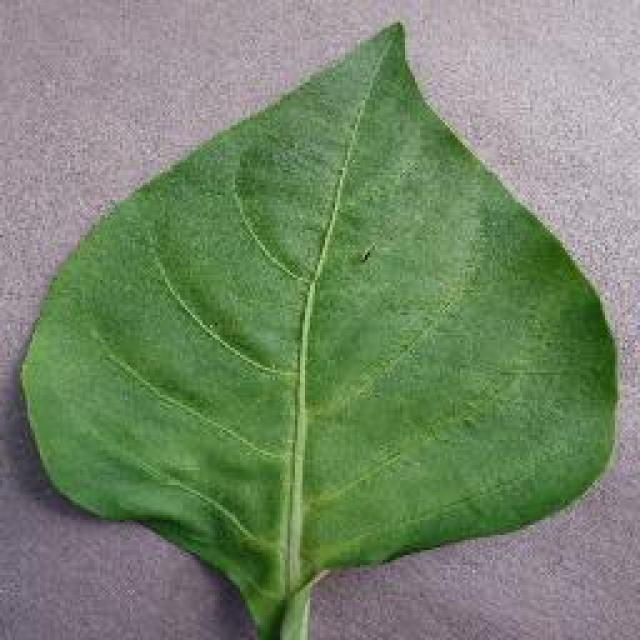Chilli_Healthy: (18, 18, 620, 638)
